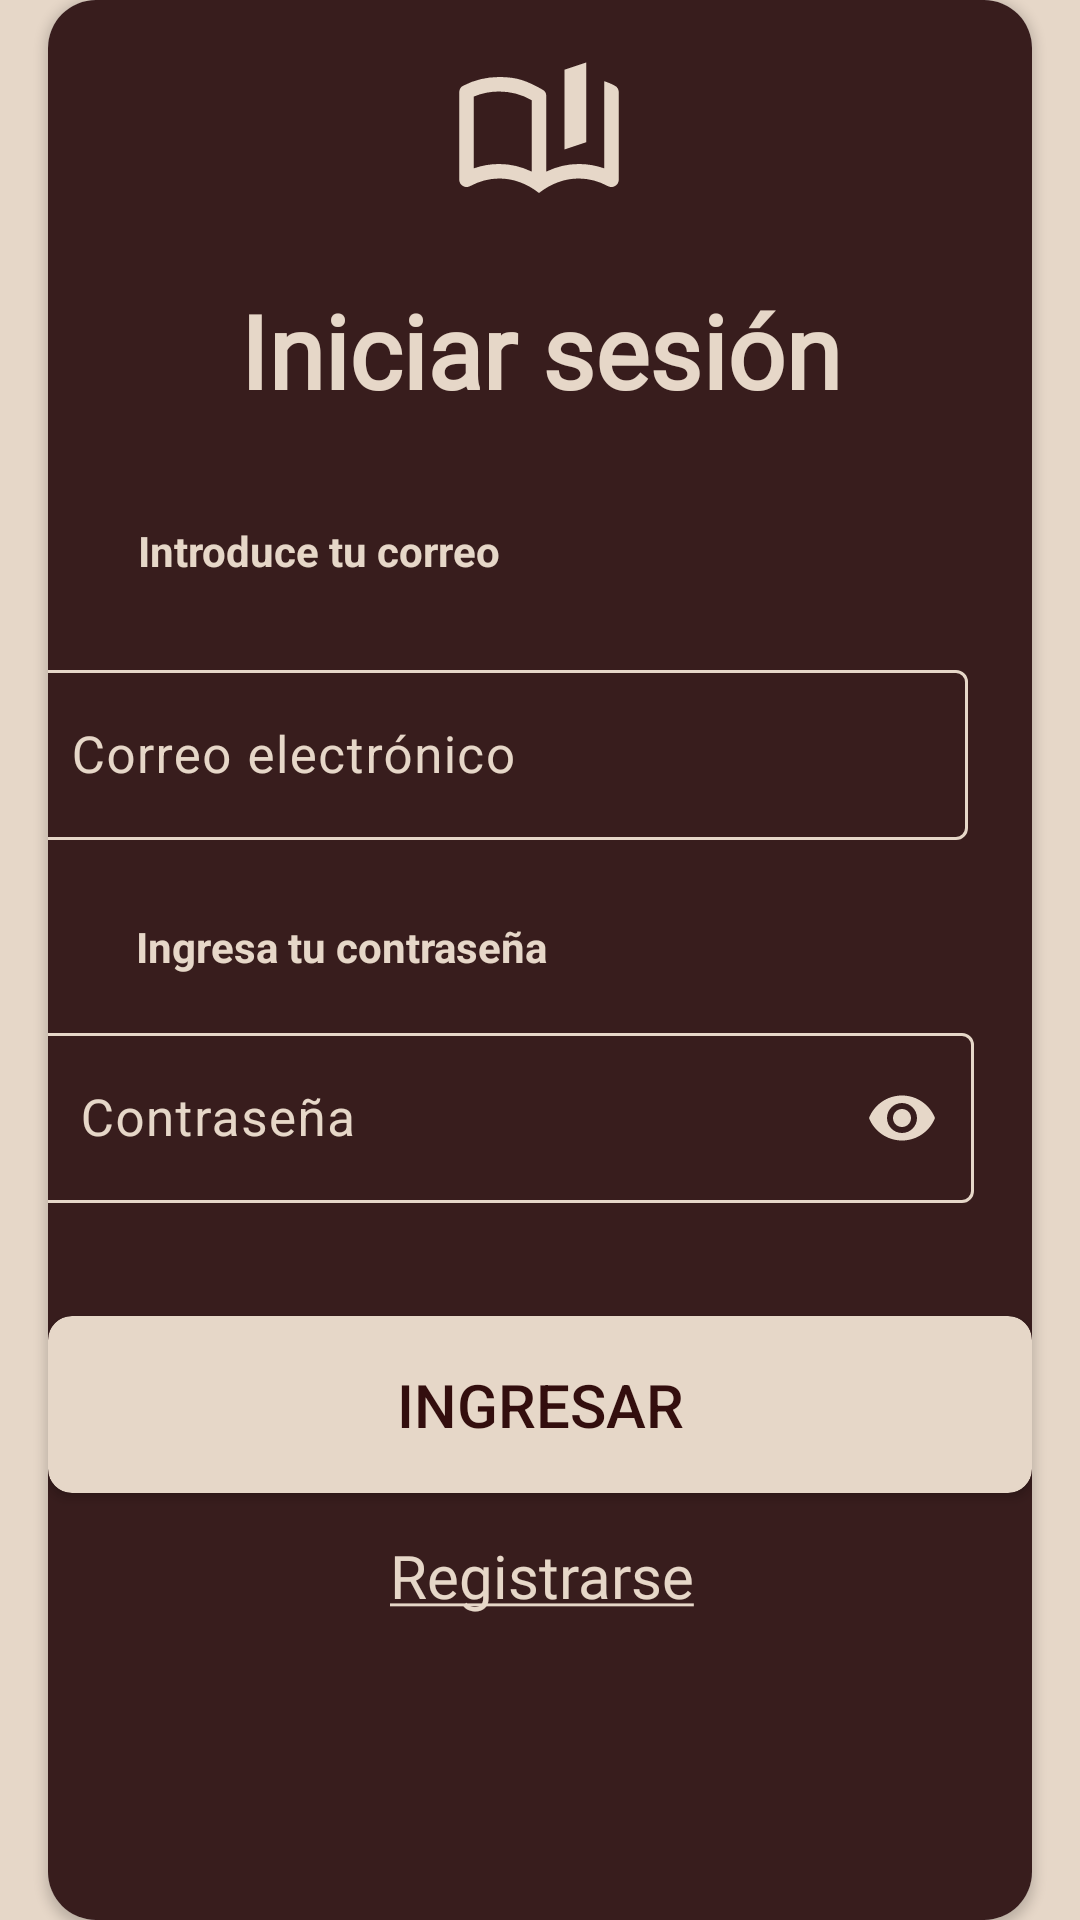

Locate icon controls on the screen. Image size 1080 × 1920, boxes as {"left": x1, "top": y1, "right": x2, "bottom": y2}.
book ribbon: {"left": 459, "top": 62, "right": 619, "bottom": 193}
